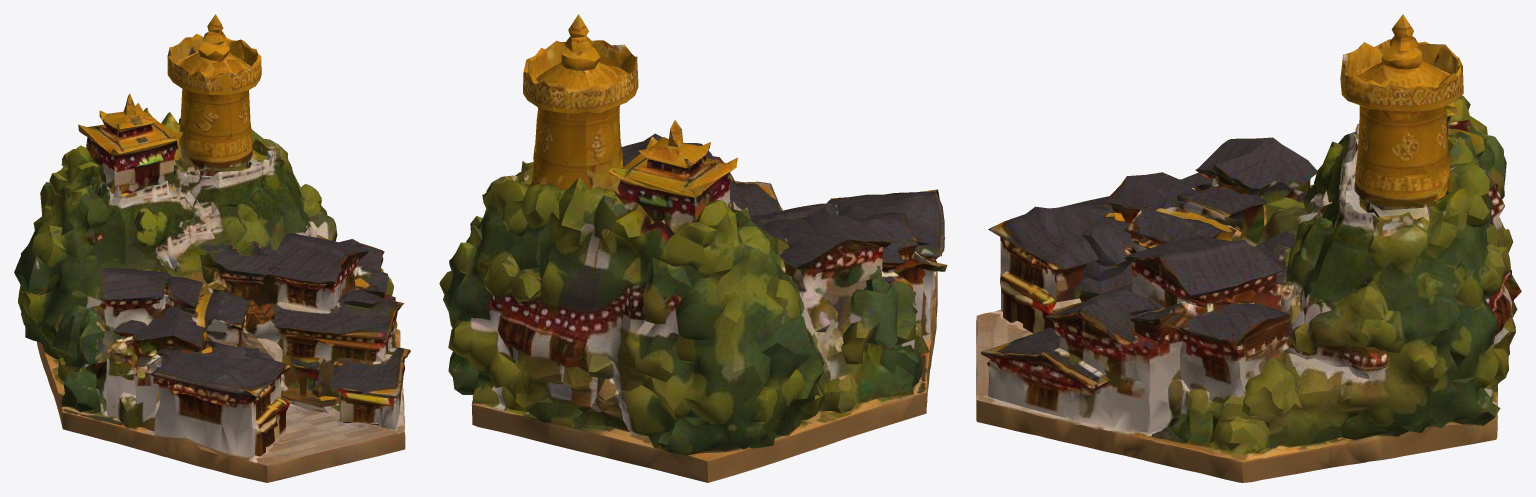
File: dukezong.glb
3 views of the same model, side by side, from view 1: azimuth 30°, elevation 25°; view 2: azimuth 150°, elevation 25°; view 3: azimuth 270°, elevation 25° (orthographic). The views are drawn at different scales.
Visible parts, largest first — view 1: logan-textured.obj; view 2: logan-textured.obj; view 3: logan-textured.obj.
Part boxes in pixels (x1,y1,x2,y2): logan-textured.obj: (14, 14, 410, 482); logan-textured.obj: (439, 14, 947, 482); logan-textured.obj: (976, 14, 1521, 482).
Bounding box in the file's own units: 0.896 × 0.8018 × 1.
Materials: 1 (1 with a texture image).
